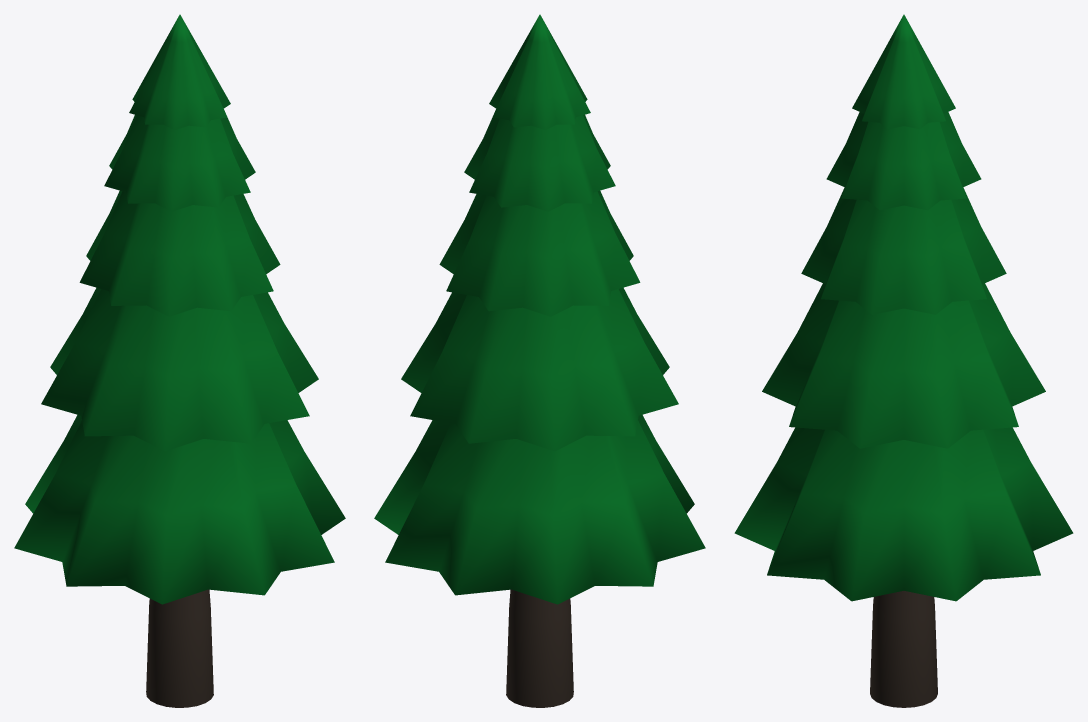
The model's file is Pine1.fbx.
3 views of the same model, side by side, from view 1: azimuth 30°, elevation 25°; view 2: azimuth 150°, elevation 25°; view 3: azimuth 270°, elevation 25° (orthographic).
Visible parts, largest first — view 1: Pine1; view 2: Pine1; view 3: Pine1.
Boxes of the visible parts, left/top/right/bottom form: Pine1: left=14, top=14, right=345, bottom=707; Pine1: left=374, top=14, right=705, bottom=707; Pine1: left=734, top=14, right=1073, bottom=707.
Bounding box in the file's own units: 6.19 × 14.4 × 6.51.
